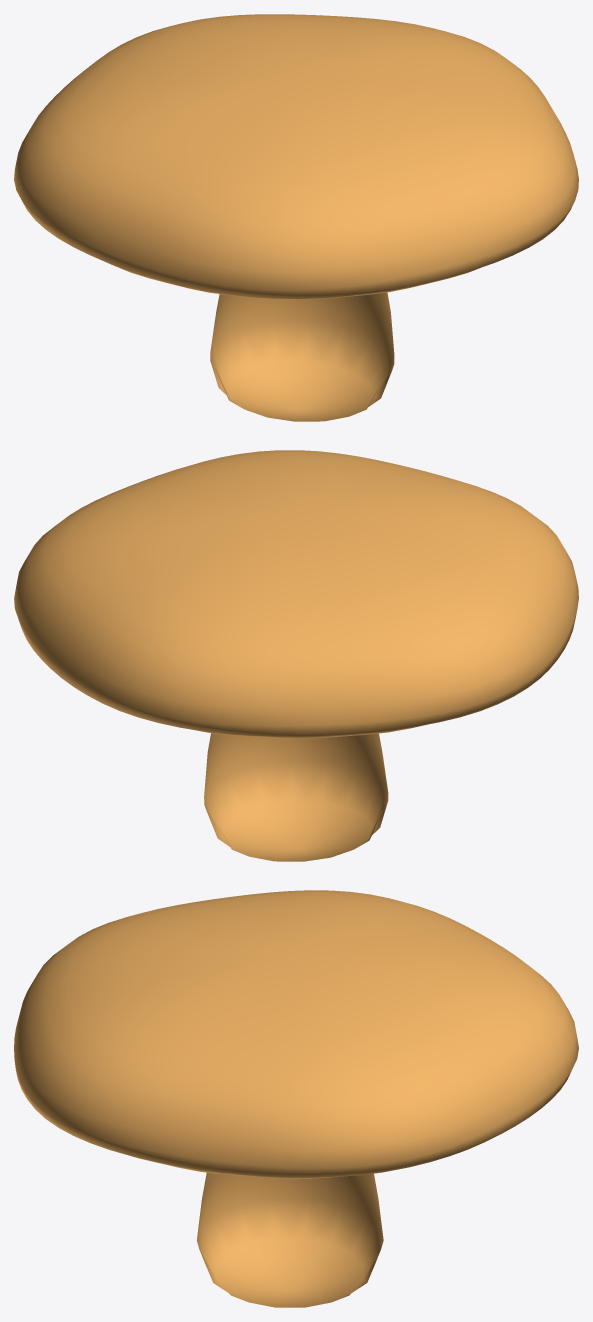
Rendered from mushroom_cap_large.glb.
The picture shows the model from 3 angles, top to bottom: view 1: azimuth 30°, elevation 25°; view 2: azimuth 150°, elevation 25°; view 3: azimuth 270°, elevation 25°; orthographic projection.
Visible parts, largest first — view 1: SM_Forest_MushroomCap_Large; view 2: SM_Forest_MushroomCap_Large; view 3: SM_Forest_MushroomCap_Large.
Boxes of the visible parts, x1=… form: SM_Forest_MushroomCap_Large: x1=14, y1=14, x2=578, y2=421; SM_Forest_MushroomCap_Large: x1=14, y1=450, x2=578, y2=861; SM_Forest_MushroomCap_Large: x1=14, y1=890, x2=578, y2=1307.
Size of the model in its own units: 2.21 by 1.43 by 2.2.
